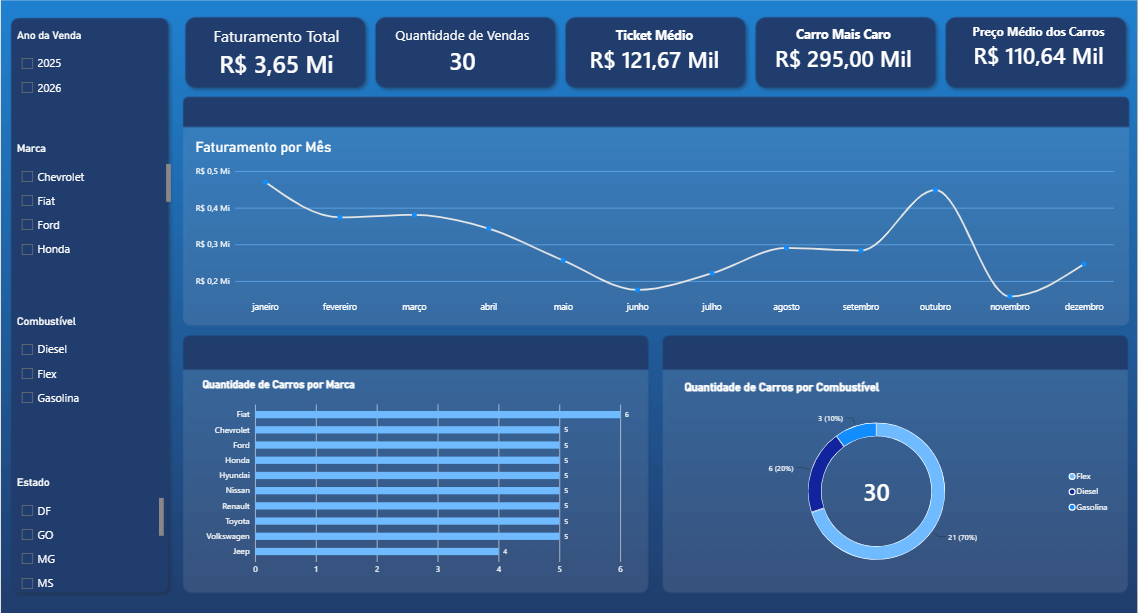

What the dashboard file says about the page in this screenshot:
{"tool":"powerbi","page":{"name":"Página 1","canvas":[1920,1080],"ordinal":0},"visuals":[{"type":"cardVisual","title":"Faturamento Total","fields":{"Data":["analise_veiculos carros.Faturamento Total"]},"box":[324.5,45.6,282.3,118.3],"z":0},{"type":"lineChart","title":"Faturamento por Mês","fields":{"Category":["analise_veiculos vendas.data_venda.Variation.Hierarquia de datas.Ano","analise_veiculos vendas.data_venda.Variation.Hierarquia de datas.Trimestre","analise_veiculos vendas.data_venda.Variation.Hierarquia de datas.Mês","analise_veiculos vendas.data_venda.Variation.Hierarquia de datas.Dia"],"Y":["analise_veiculos carros.Faturamento Total"]},"box":[312.2,238.5,1584.5,329.7],"z":1},{"type":"clusteredBarChart","title":"Quantidade de Carros por Marca","fields":{"Category":["analise_veiculos carros.marca"],"Y":["CountNonNull(analise_veiculos carros.id_carro)"]},"box":[324.5,642.3,757.2,366.8],"z":2},{"type":"donutChart","title":"Quantidade de Carros por Combustível","fields":{"Category":["analise_veiculos carros.combustivel"],"Y":["CountNonNull(analise_veiculos vendas.id_carro)"]},"box":[1139.6,644.9,757,367],"z":3},{"type":"slicer","title":"Ano da Venda","fields":{"Values":["analise_veiculos vendas.data_venda.Variation.Hierarquia de datas.Ano"]},"box":[27,65.9,260.3,191],"z":4},{"type":"slicer","title":"Marca","fields":{"Values":["analise_veiculos carros.marca"]},"box":[27,256.9,260.3,191],"z":5},{"type":"slicer","title":"Combustível","fields":{"Values":["analise_veiculos carros.combustivel"]},"box":[27,549.3,260.3,191],"z":6},{"type":"slicer","title":"Estado","fields":{"Values":["analise_veiculos clientes.estado"]},"box":[27,821.4,248.5,191],"z":7},{"type":"cardVisual","title":"Faturamento Total","fields":{"Data":["analise_veiculos carros.Quantidade de Vendas"]},"box":[637.2,43.9,285.6,118.3],"z":8},{"type":"cardVisual","title":"Faturamento Total","fields":{"Data":["analise_veiculos carros.Ticket Médio"]},"box":[962.9,44.2,282.7,117.3],"z":9},{"type":"cardVisual","title":"Faturamento Total","fields":{"Data":["analise_veiculos carros.Carro Mais Caro"]},"box":[1282.5,41.7,282.7,117.3],"z":10},{"type":"cardVisual","title":"Faturamento Total","fields":{"Data":["analise_veiculos carros.Preço Médio dos Carros"]},"box":[1612.6,37.9,282.7,117.3],"z":11}]}

Visuals, with their boxes on the page's 1920x1080 design canvas (x1, y1, x2, y2). These are canvas units, not pixel positions in the 1138x613 screenshot, which may show the page scaled, cropped or inside an application window:
"Faturamento Total" cardVisual: detection(324, 46, 607, 164)
"Faturamento por Mês" lineChart: detection(312, 238, 1897, 568)
"Quantidade de Carros por Marca" clusteredBarChart: detection(324, 642, 1082, 1009)
"Quantidade de Carros por Combustível" donutChart: detection(1140, 645, 1897, 1012)
"Ano da Venda" slicer: detection(27, 66, 287, 257)
"Marca" slicer: detection(27, 257, 287, 448)
"Combustível" slicer: detection(27, 549, 287, 740)
"Estado" slicer: detection(27, 821, 276, 1012)
"Faturamento Total" cardVisual: detection(637, 44, 923, 162)
"Faturamento Total" cardVisual: detection(963, 44, 1246, 162)
"Faturamento Total" cardVisual: detection(1282, 42, 1565, 159)
"Faturamento Total" cardVisual: detection(1613, 38, 1895, 155)
